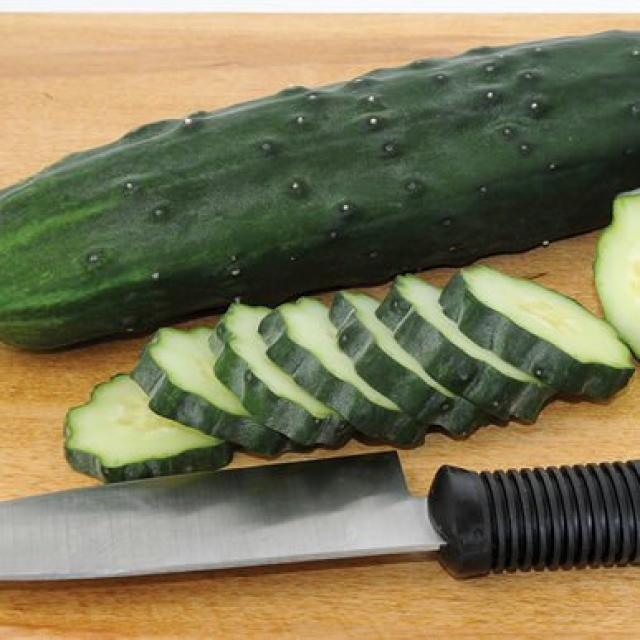cucumber: (0, 25, 640, 348)
